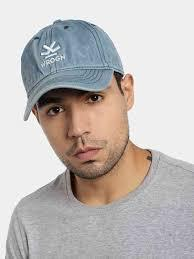cap: (6, 13, 127, 131)
